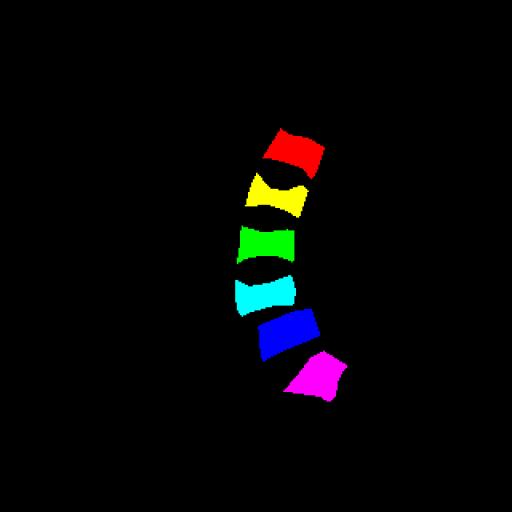L2: (263, 129, 325, 178), (245, 173, 308, 218)
L3: (238, 226, 294, 264)
L4: (236, 278, 293, 316)
L5: (258, 309, 320, 360)
S1: (284, 351, 347, 402)
